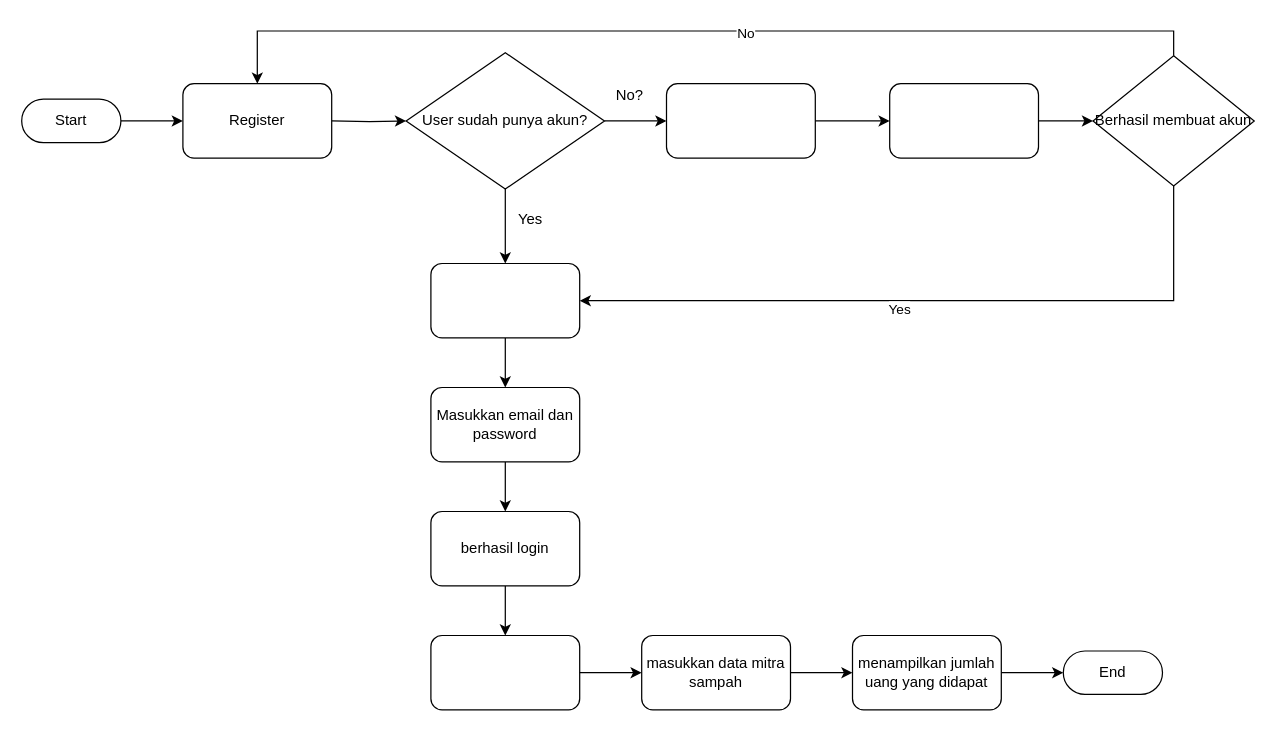
Image size: 1276x732. Some labels were removed from this diagram. Here are the shapes that lost their labels. From the top down, the centre of each, then its label:
point 740,120: Register form
point 963,120: Masukkan nama, email, password, nomer hp, alamat
point 505,300: Login
point 505,672: memasukkan data sampah
